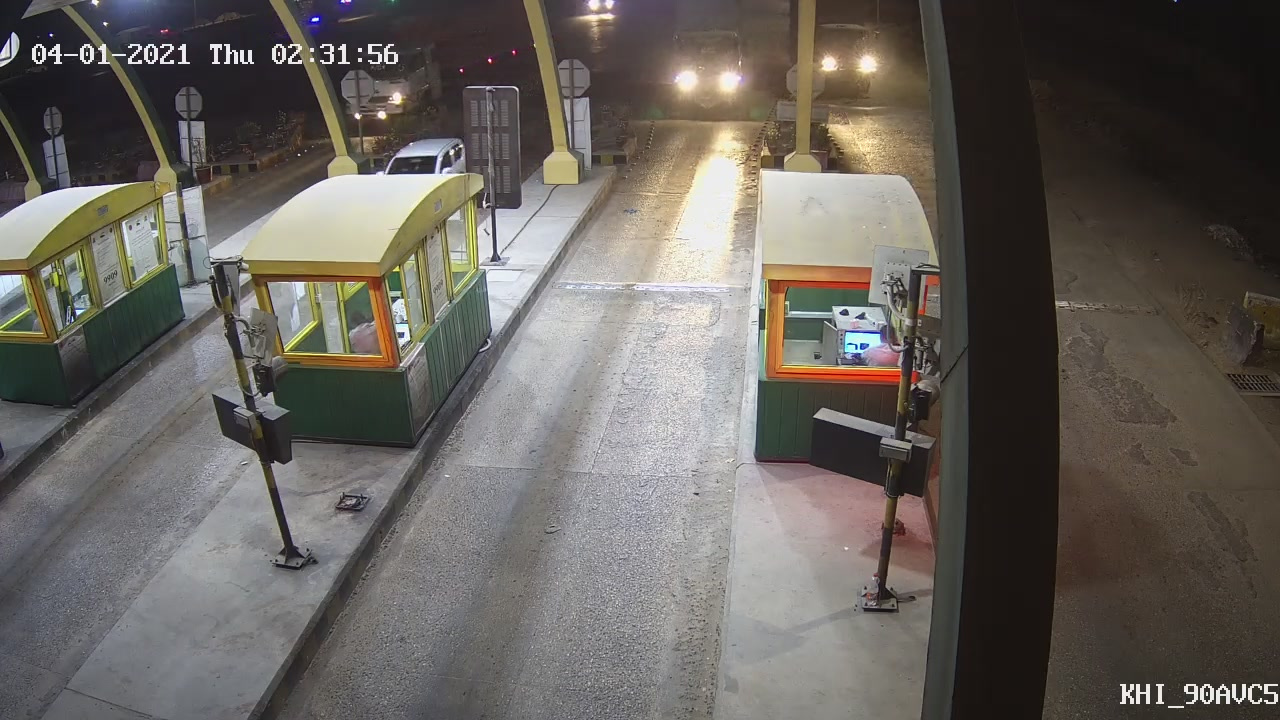F5: (653, 8, 758, 117)
